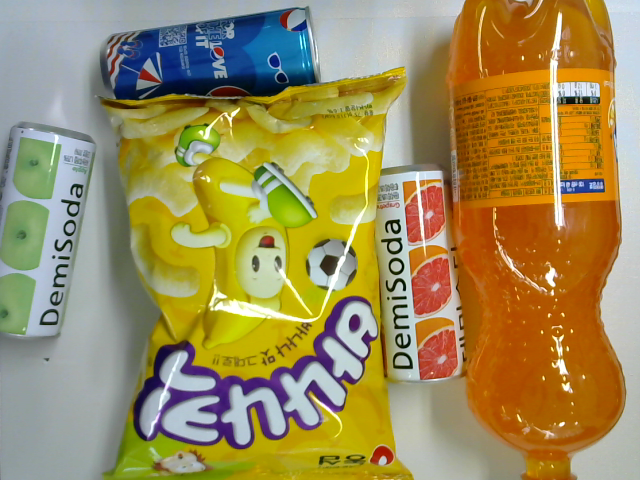Banana_Kick: (106, 67, 415, 480)
Demisoda_Apple_Can_250ml: (1, 121, 97, 339)
Demisoda_Grapefruit_Can_250ml: (377, 161, 468, 383)
Hwanta_Orange_1.5L: (446, 1, 627, 478)
Pepsi_Cola_Can_250ml: (101, 6, 322, 101)
